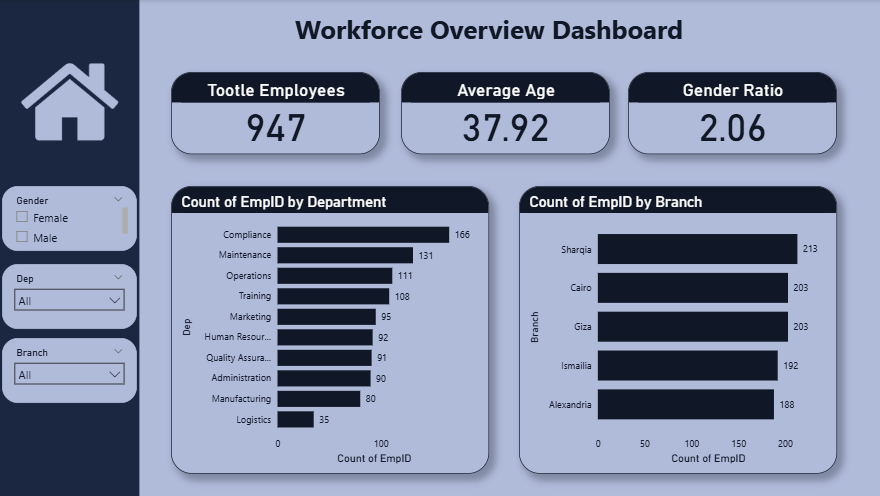

The dashboard page shown, as its layout file describes it:
{"tool":"powerbi","page":{"name":"Workforce Overview","canvas":[1301,720],"ordinal":1},"visuals":[{"type":"textbox","box":[397.6,13,644.8,63.6],"z":0},{"type":"card","title":"Tootle Employees","fields":{"Values":["'Measures'.Total Employees"]},"box":[260.2,105.5,302.2,118.6],"z":1000},{"type":"card","title":"Average Age","fields":{"Values":["'Measures'.Average Age"]},"box":[592.8,105.5,302.2,118.6],"z":2000},{"type":"card","title":"Gender Ratio","fields":{"Values":["'Measures'.Gender Ratio"]},"box":[921,105.5,302.2,118.6],"z":3000},{"type":"clusteredBarChart","title":"Count of EmpID by Department","fields":{"Y":["CountNonNull(Employee Database.EmpID)"],"Category":["Employee Database.Dep"]},"box":[260.2,270.4,459.8,416.4],"z":4000},{"type":"clusteredBarChart","title":"Count of EmpID by Branch","fields":{"Y":["CountNonNull(Employee Database.EmpID)"],"Category":["Employee Database.Branch"]},"box":[763.4,270.4,459.8,416.4],"z":5000},{"type":"slicer","fields":{"Values":["Employee Database.Gender"]},"box":[15.9,270.4,195.2,94],"z":6000},{"type":"slicer","fields":{"Values":["Employee Database.Dep"]},"box":[15.9,383.1,195.2,94],"z":7000},{"type":"slicer","fields":{"Values":["Employee Database.Branch"]},"box":[15.9,490.1,195.2,94],"z":8000},{"type":"image","box":[15.9,73.7,195.2,150.4],"z":9000}]}

Visuals, with their boxes in screenshot pixels (x1, y1, x2, y2), scaled from the page's 1301x720 canvas onto the 880x496 screenshot:
textbox: detection(269, 9, 705, 53)
"Tootle Employees" card: detection(176, 73, 380, 154)
"Average Age" card: detection(401, 73, 605, 154)
"Gender Ratio" card: detection(623, 73, 827, 154)
"Count of EmpID by Department" clusteredBarChart: detection(176, 186, 487, 473)
"Count of EmpID by Branch" clusteredBarChart: detection(516, 186, 827, 473)
slicer - Employee Database.Gender: detection(11, 186, 143, 251)
slicer - Employee Database.Dep: detection(11, 264, 143, 329)
slicer - Employee Database.Branch: detection(11, 338, 143, 402)
image: detection(11, 51, 143, 154)
